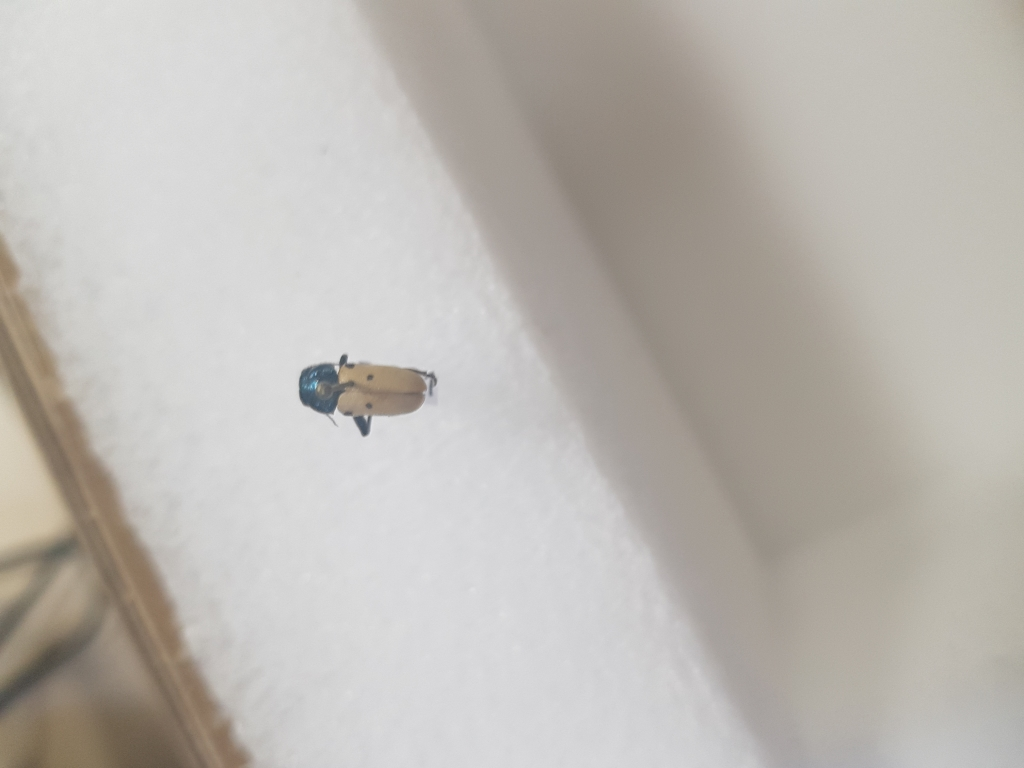Labidostomis_maculipennis: (294, 347, 443, 442)
